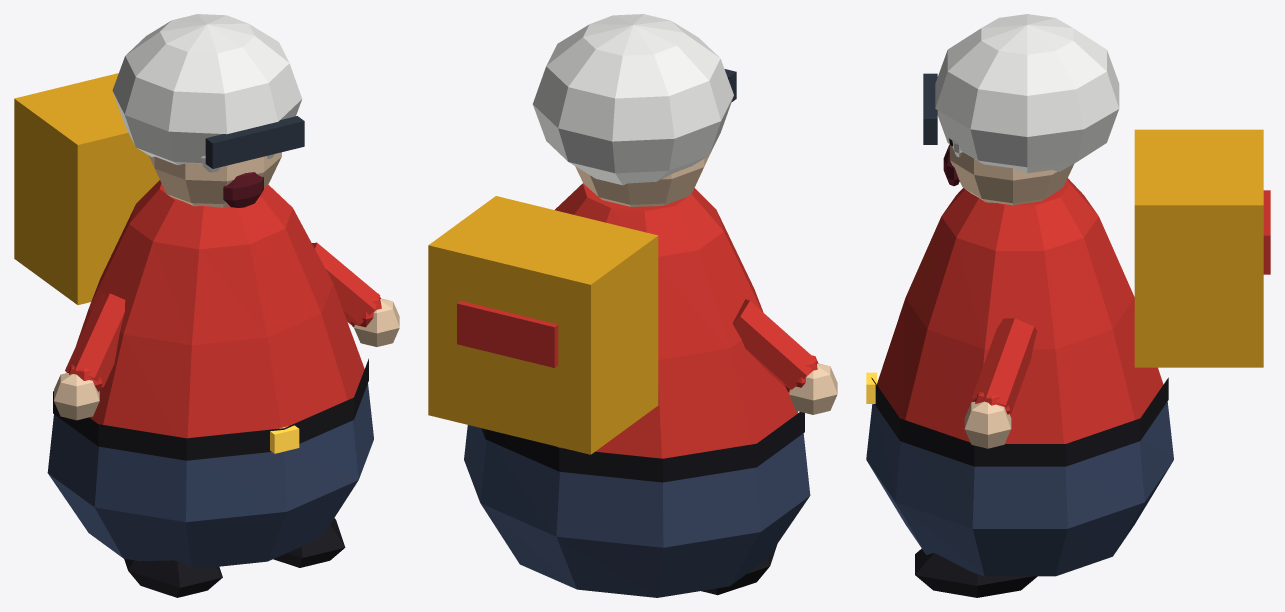
File: npc_repartidor.glb
The picture shows the model from 3 angles, left to right: view 1: azimuth 30°, elevation 25°; view 2: azimuth 150°, elevation 25°; view 3: azimuth 270°, elevation 25°; orthographic projection. The views are drawn at different scales.
Visible parts, largest first — view 1: body_delivery_red, body_delivery_jeans, props_thermal_box, cap_helmet_white, body_black, arms_delivery_red, legs_black, head_skin_crema, cap_visor, arms_skin_crema, face_mouth, body_gold; view 2: props_thermal_box, body_delivery_jeans, body_delivery_red, cap_helmet_white, body_black, props_thermal_logo, arms_delivery_red, head_skin_crema, arms_skin_crema, legs_black; view 3: body_delivery_red, props_thermal_box, body_delivery_jeans, cap_helmet_white, body_black, arms_delivery_red, head_skin_crema, legs_black, arms_skin_crema, cap_visor, props_thermal_logo.
Part boxes in pixels (x1=…): body_delivery_red: x1=76, y1=180, x2=364, y2=438; body_delivery_jeans: x1=47, y1=383, x2=373, y2=568; props_thermal_box: x1=14, y1=73, x2=159, y2=304; cap_helmet_white: x1=112, y1=14, x2=301, y2=165; body_black: x1=53, y1=358, x2=368, y2=460; arms_delivery_red: x1=65, y1=242, x2=381, y2=392; legs_black: x1=124, y1=518, x2=345, y2=597; head_skin_crema: x1=148, y1=152, x2=281, y2=207; cap_visor: x1=205, y1=116, x2=304, y2=168; arms_skin_crema: x1=54, y1=298, x2=399, y2=420; face_mouth: x1=223, y1=172, x2=263, y2=207; body_gold: x1=270, y1=425, x2=299, y2=453; props_thermal_box: x1=428, y1=196, x2=658, y2=454; body_delivery_jeans: x1=464, y1=425, x2=810, y2=597; body_delivery_red: x1=555, y1=183, x2=797, y2=458; cap_helmet_white: x1=532, y1=14, x2=733, y2=185; body_black: x1=481, y1=412, x2=804, y2=482; props_thermal_logo: x1=457, y1=301, x2=558, y2=367; arms_delivery_red: x1=732, y1=299, x2=818, y2=391; head_skin_crema: x1=575, y1=155, x2=709, y2=206; arms_skin_crema: x1=789, y1=363, x2=837, y2=414; legs_black: x1=701, y1=544, x2=777, y2=595; body_delivery_red: x1=877, y1=178, x2=1163, y2=443; props_thermal_box: x1=1134, y1=129, x2=1263, y2=367; body_delivery_jeans: x1=866, y1=402, x2=1173, y2=576; cap_helmet_white: x1=935, y1=14, x2=1119, y2=173; body_black: x1=871, y1=377, x2=1168, y2=466; arms_delivery_red: x1=972, y1=318, x2=1036, y2=414; head_skin_crema: x1=950, y1=145, x2=1074, y2=205; legs_black: x1=915, y1=548, x2=1037, y2=597; arms_skin_crema: x1=964, y1=401, x2=1011, y2=448; cap_visor: x1=923, y1=73, x2=937, y2=144; props_thermal_logo: x1=1263, y1=190, x2=1270, y2=274.
Size of the model in its own units: 1.13 by 1.65 by 1.13.
